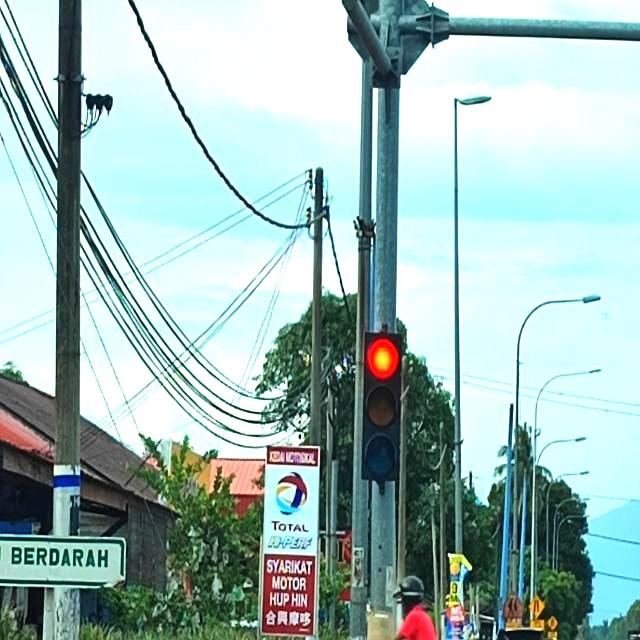Red: (360, 333, 402, 481)
